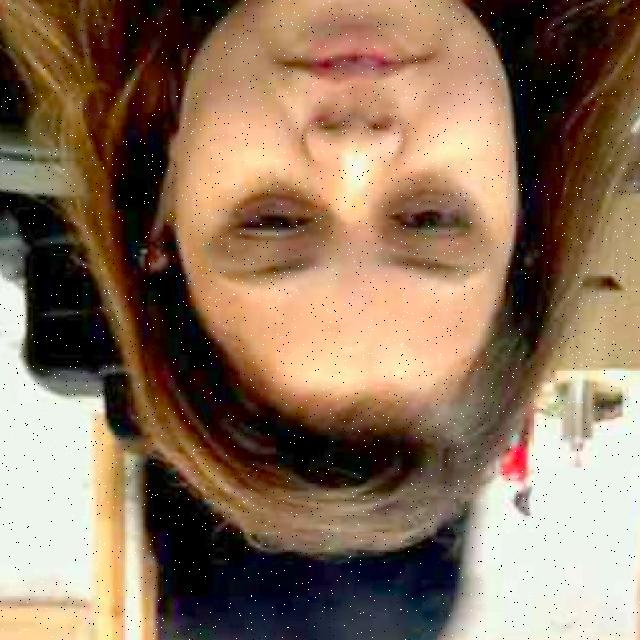puffy_eyes: (236, 191, 317, 212), (392, 184, 464, 203)
